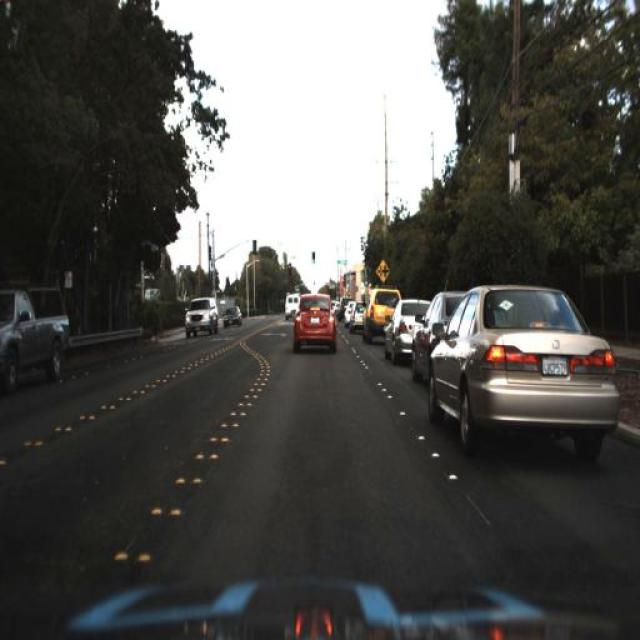car: (422, 277, 626, 469), (0, 288, 74, 398), (286, 284, 345, 364), (410, 283, 444, 397), (386, 282, 416, 378), (177, 287, 222, 347), (359, 277, 386, 354), (334, 294, 354, 328), (223, 303, 244, 331)
trafficLight-GreenLeft: (308, 239, 318, 273)
trafficLight-RedLeft: (282, 257, 292, 281)
